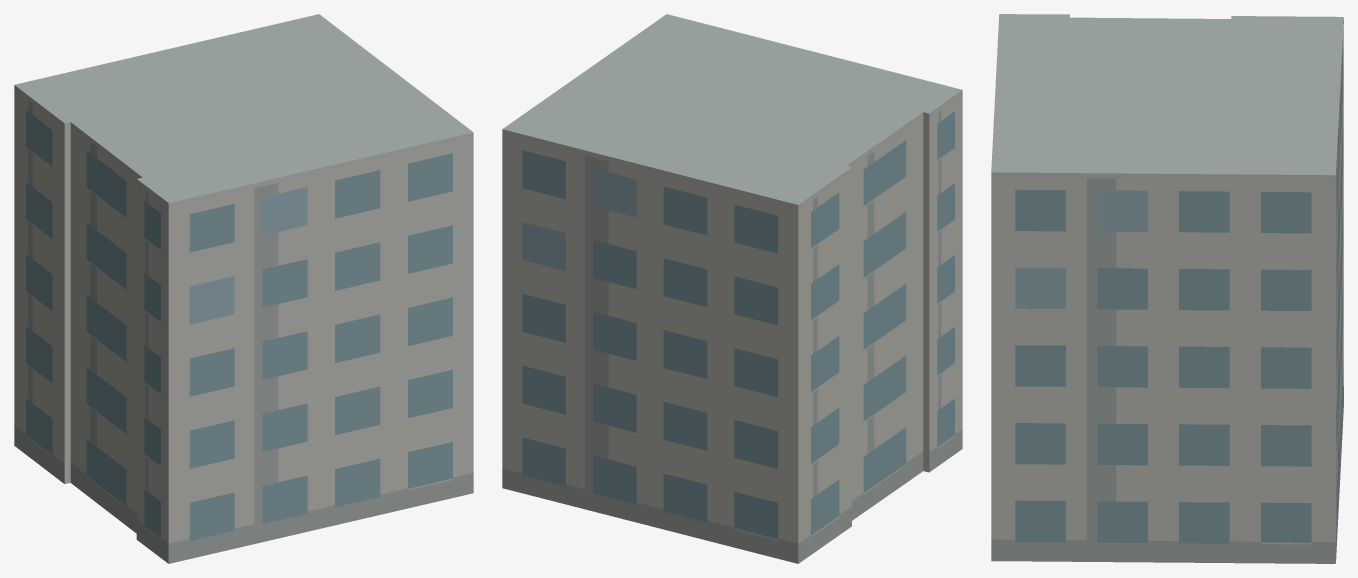
The model's file is survey-upis-32858300.glb.
3 renders of one model, left to right at view 1: azimuth 30°, elevation 25°; view 2: azimuth 150°, elevation 25°; view 3: azimuth 270°, elevation 25°, orthographic. The views are drawn at different scales.
Parts seen in each view (by area): view 1: survey-upis-32858300.tmp; view 2: survey-upis-32858300.tmp; view 3: survey-upis-32858300.tmp.
Boxes of the visible parts, bbox=[...] form: survey-upis-32858300.tmp: bbox=[14, 14, 473, 563]; survey-upis-32858300.tmp: bbox=[502, 14, 962, 563]; survey-upis-32858300.tmp: bbox=[991, 14, 1343, 563].
Size of the model in its own units: 15.57 by 17.5 by 14.4.
